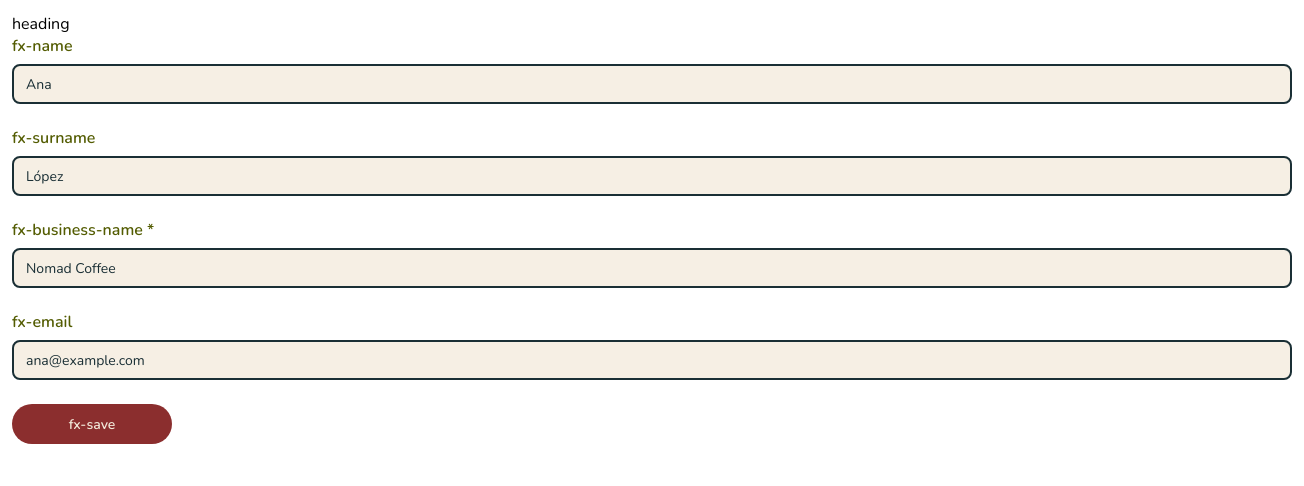
ProfileForm — the business name › The update names an invalid business name: its 422 message shows under the field and the values are kept
Step 1. Replace the text in the field labelled "fx-business-name *" with "La Tostadora" → (652, 268), box [12, 248, 1292, 288]
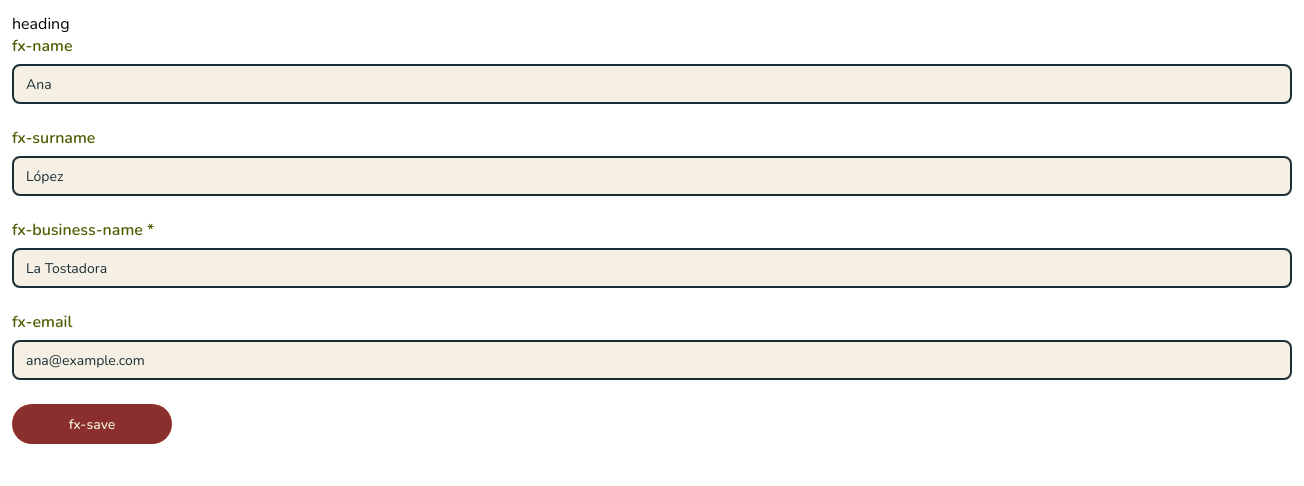
Step 2. Click the button "fx-save" → (92, 424), box [12, 404, 172, 444]
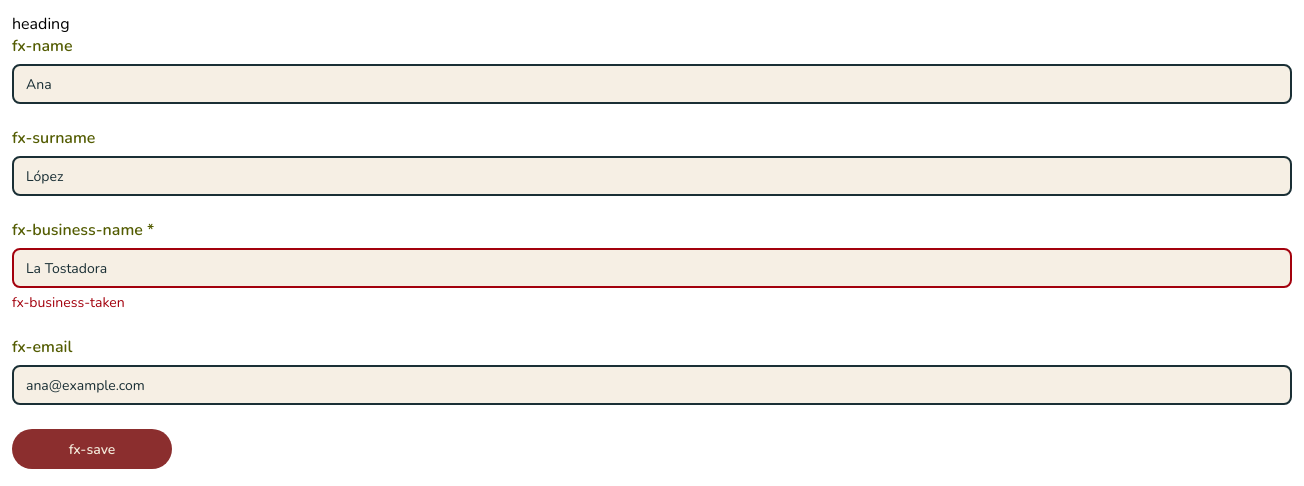
Result: the text "fx-business-taken" is shown at [12, 293, 125, 312]
